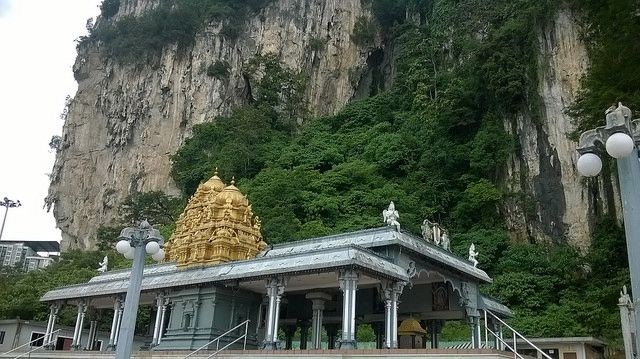Hindu Temple: (154, 172, 267, 264)
